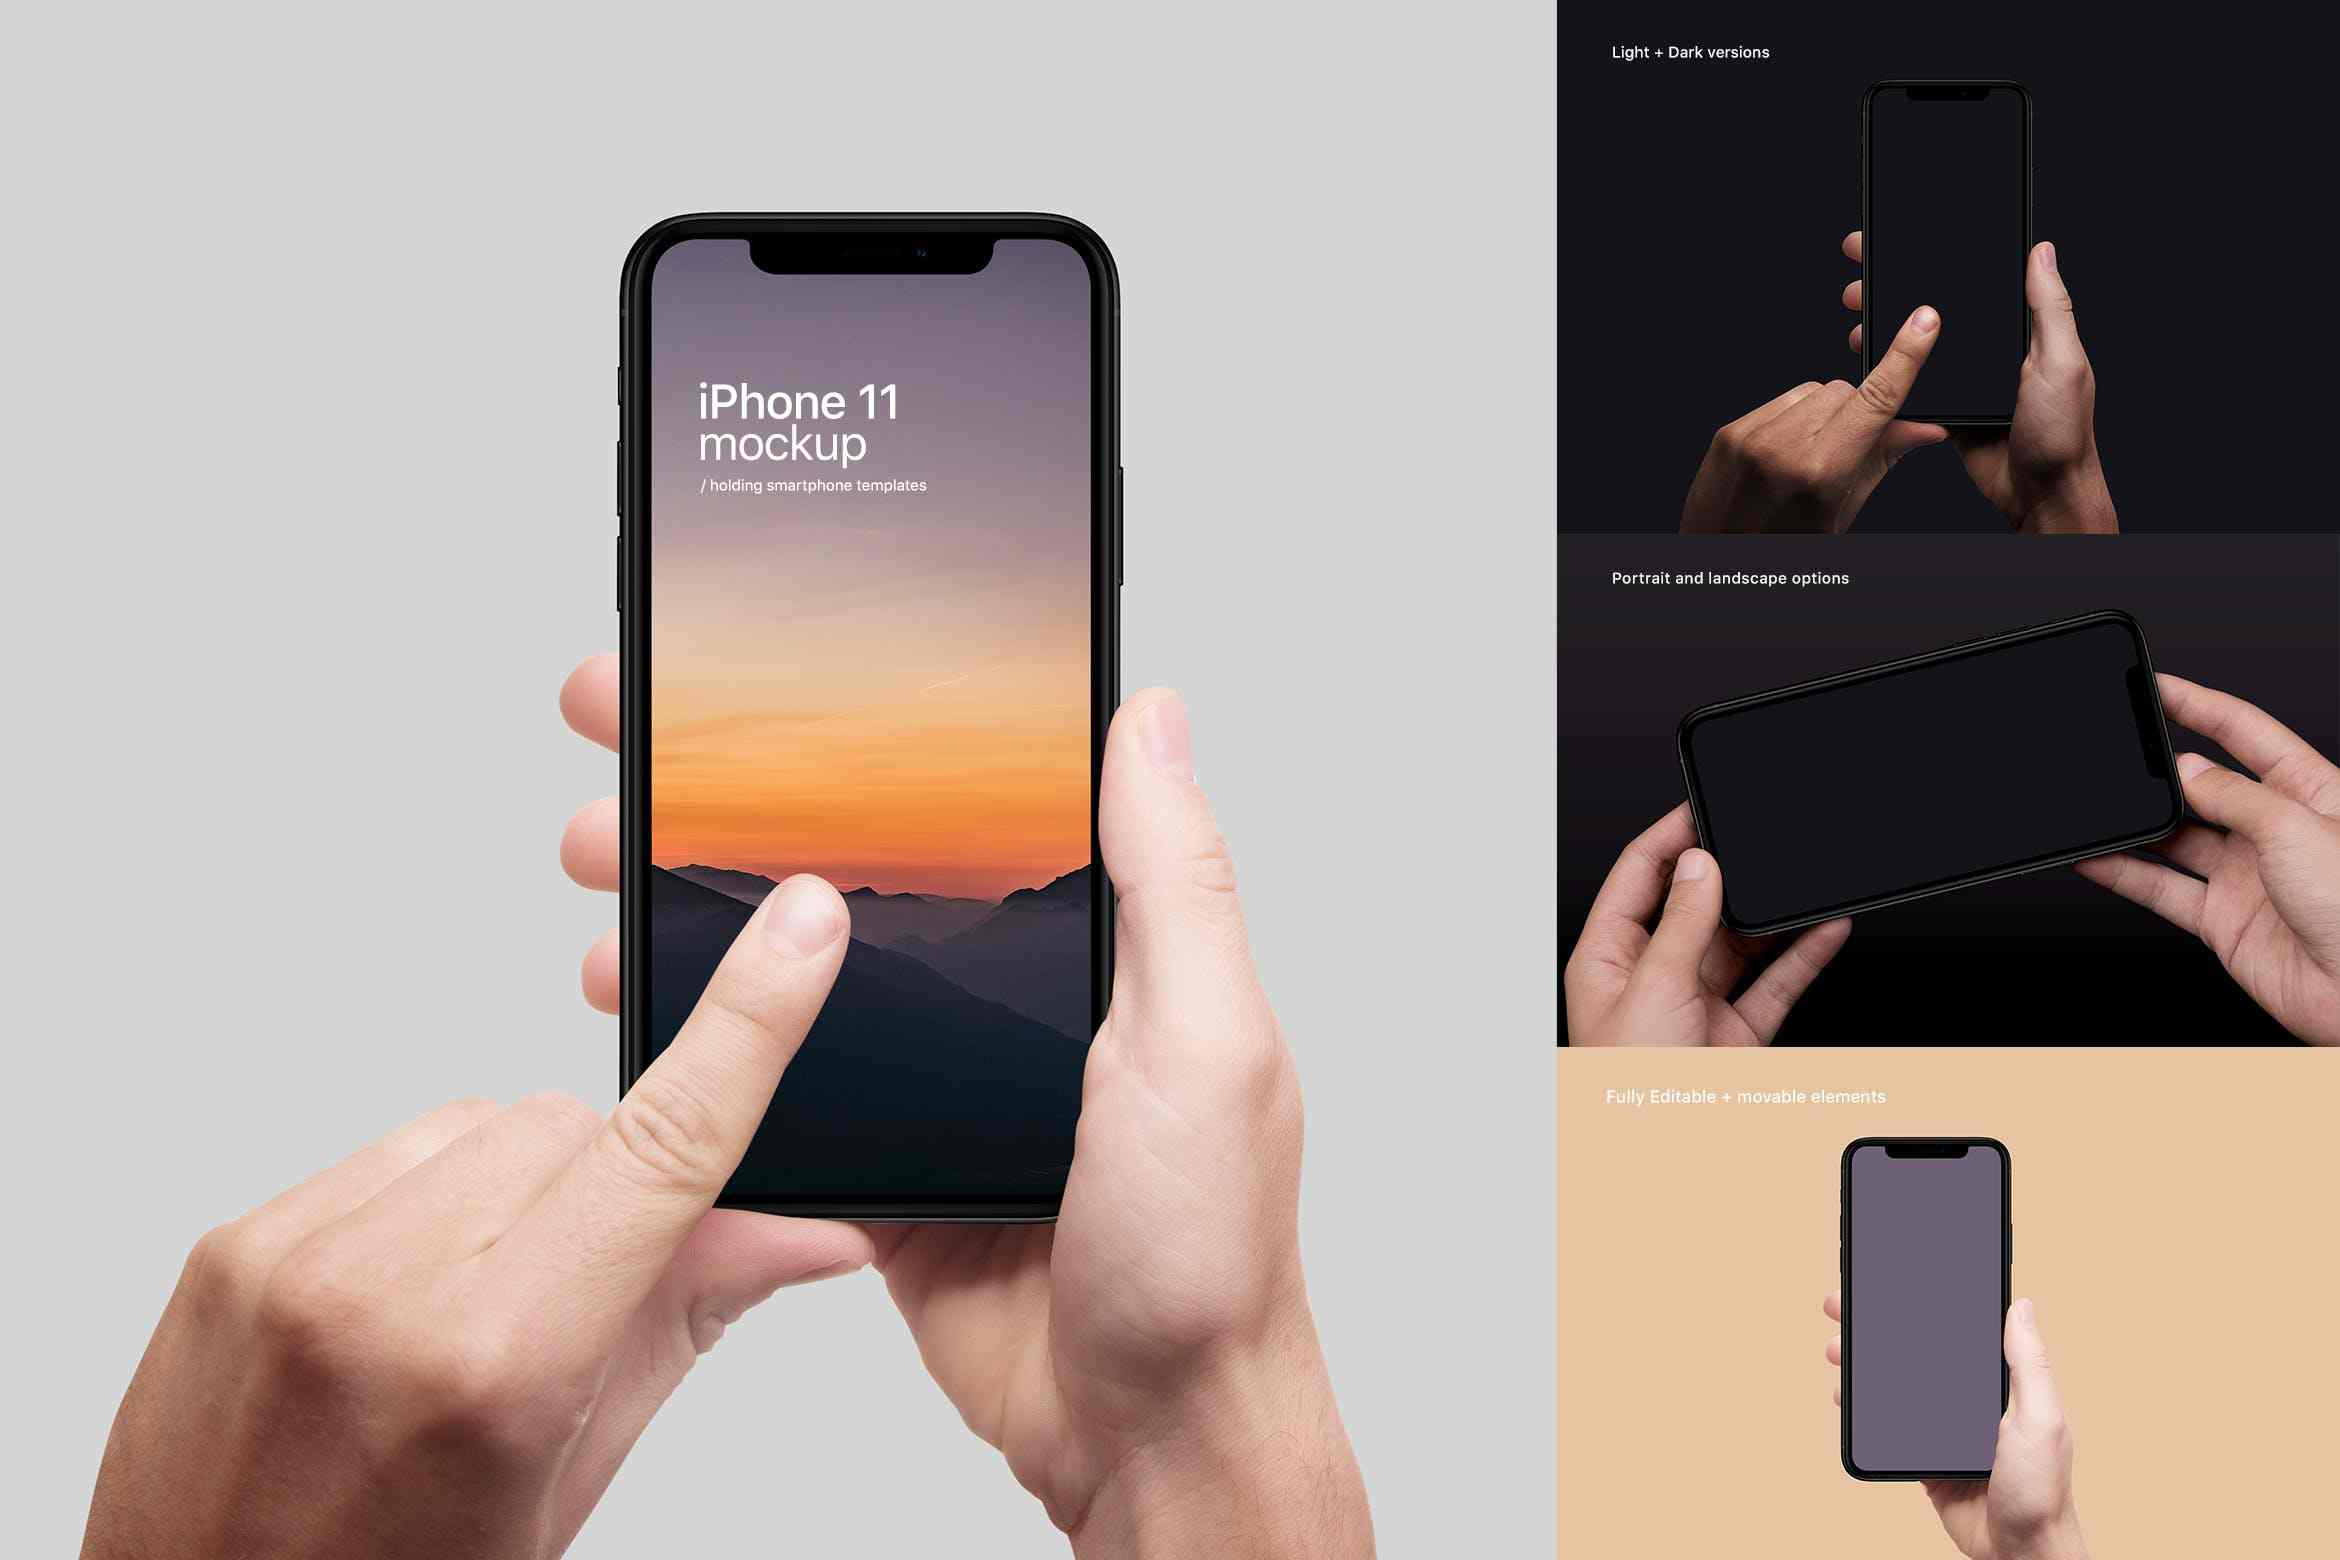phone: (526, 176, 1306, 1459)
